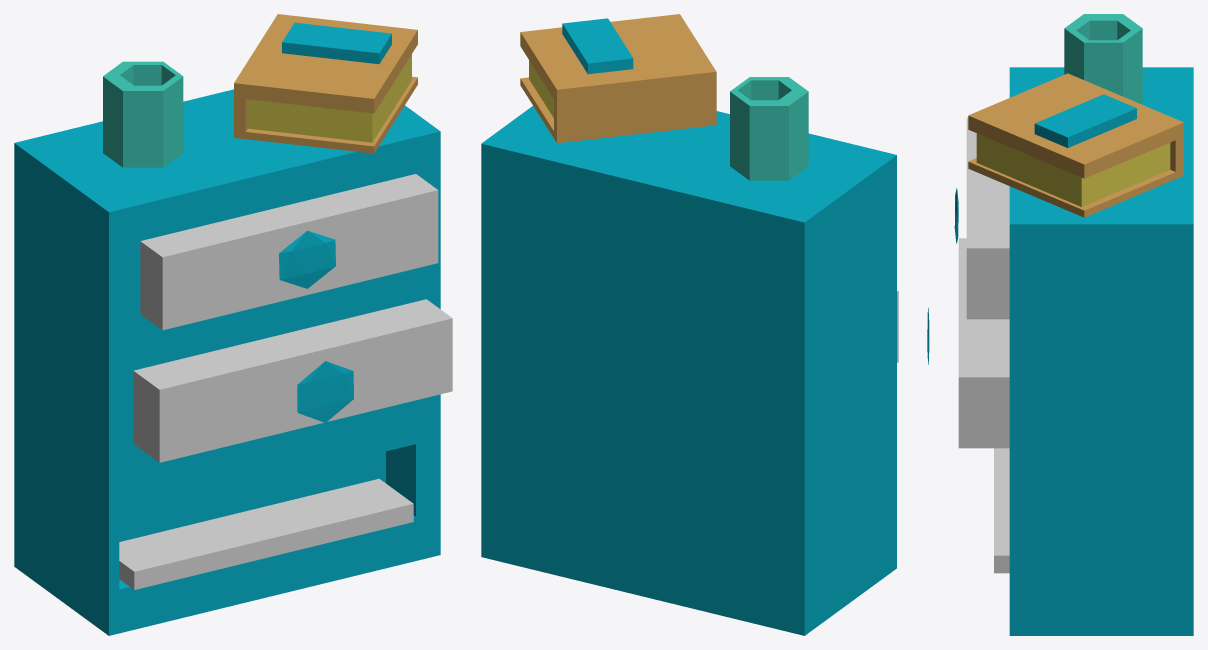
Rendered from Neat Elzing.glb.
3 renders of one model, left to right at view 1: azimuth 30°, elevation 25°; view 2: azimuth 150°, elevation 25°; view 3: azimuth 270°, elevation 25°, orthographic. The views are drawn at different scales.
Parts seen in each view (by area): view 1: Mesh_Mesh_head_geo.001_lambert2SG.001; view 2: Mesh_Mesh_head_geo.001_lambert2SG.001; view 3: Mesh_Mesh_head_geo.001_lambert2SG.001.
Boxes of the visible parts, <box> form: Mesh_Mesh_head_geo.001_lambert2SG.001: <box>14,14,452,635</box>; Mesh_Mesh_head_geo.001_lambert2SG.001: <box>481,14,898,635</box>; Mesh_Mesh_head_geo.001_lambert2SG.001: <box>927,14,1193,635</box>.
Bounding box in the file's own units: 99.58 × 138 × 68.
